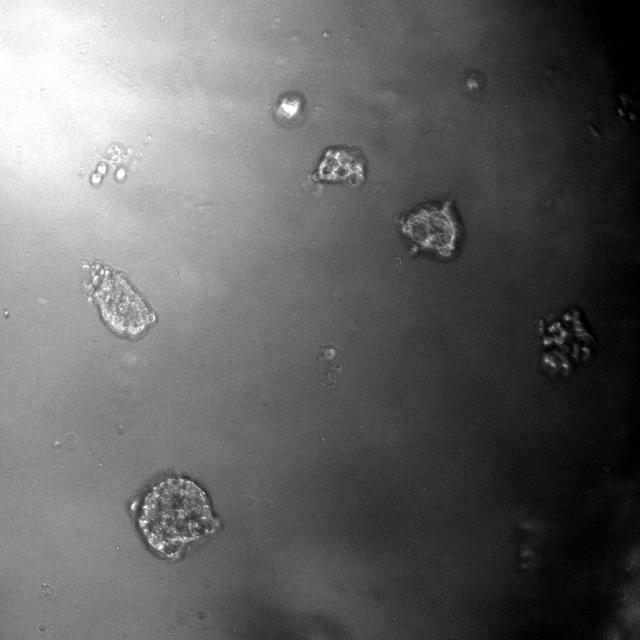organoid: (128, 474, 222, 560), (83, 259, 158, 340), (538, 308, 596, 377), (399, 200, 463, 261), (311, 147, 367, 186), (89, 142, 133, 186), (273, 91, 306, 128)
